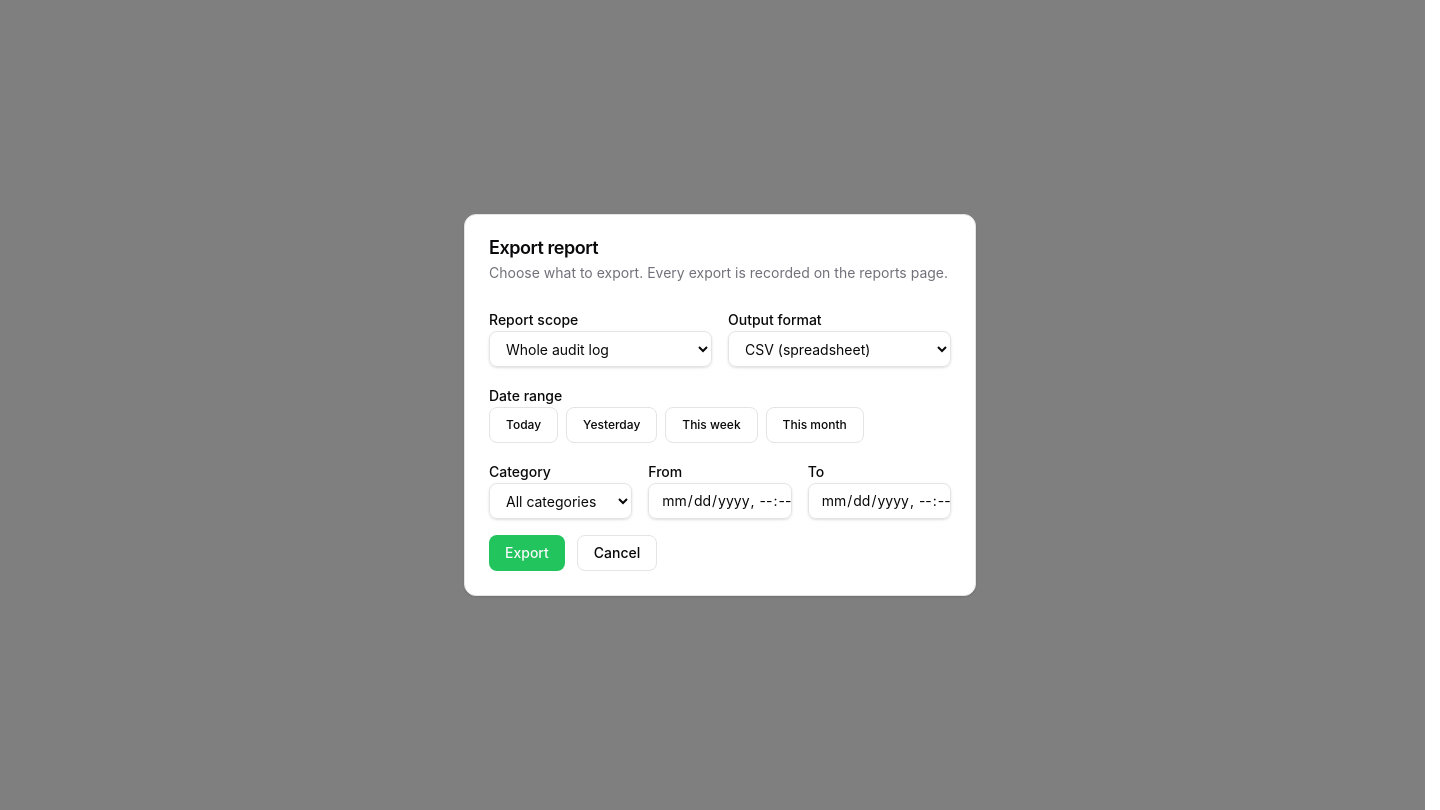
Test: ExportDialog › requires a date range before exporting
The width and height of the screenshot is (1440, 810).
Click the button "Export". click: (527, 553)
box: 489,535 -> 565,571
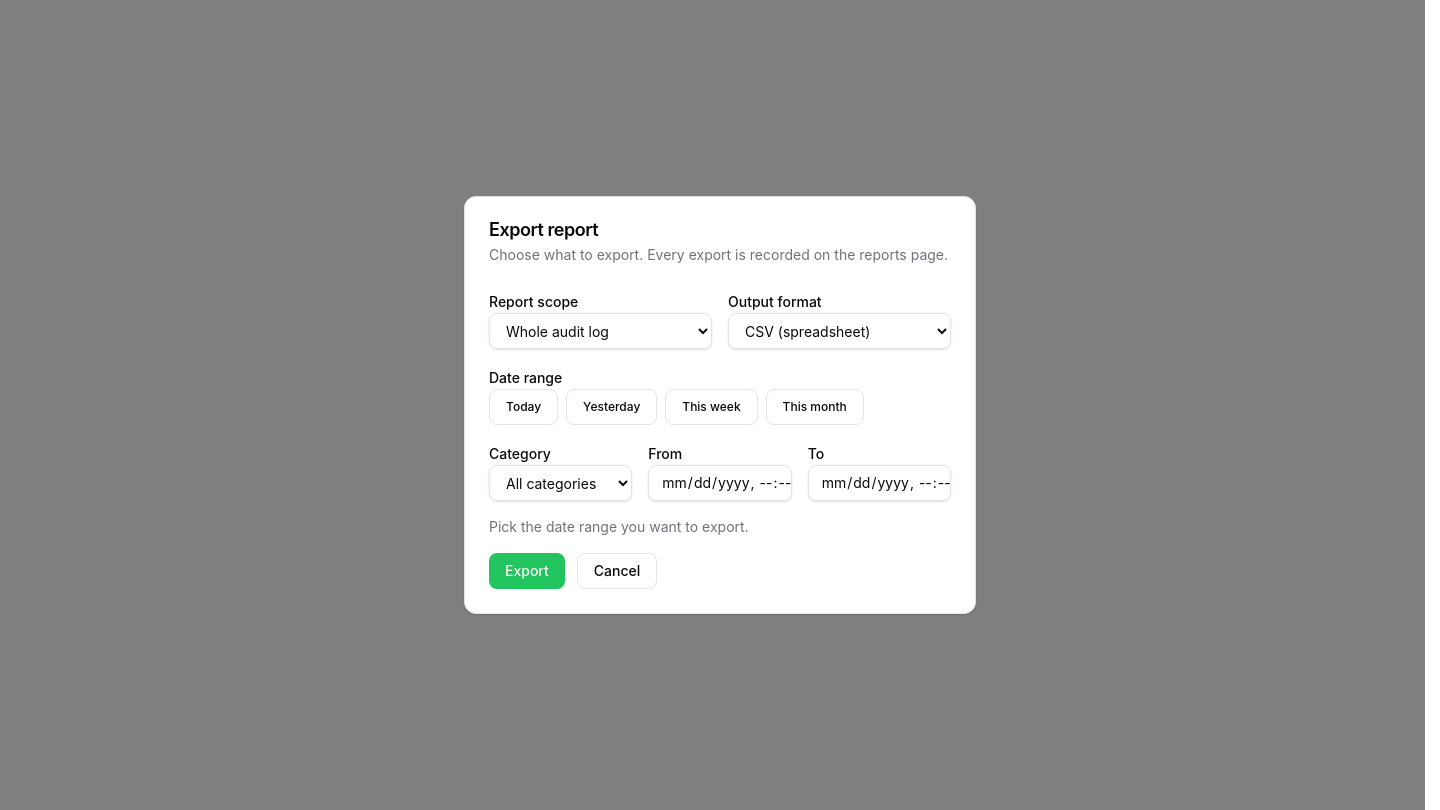
Check: the text "Pick the date range you want to export." is shown, box 489,518 -> 749,535
